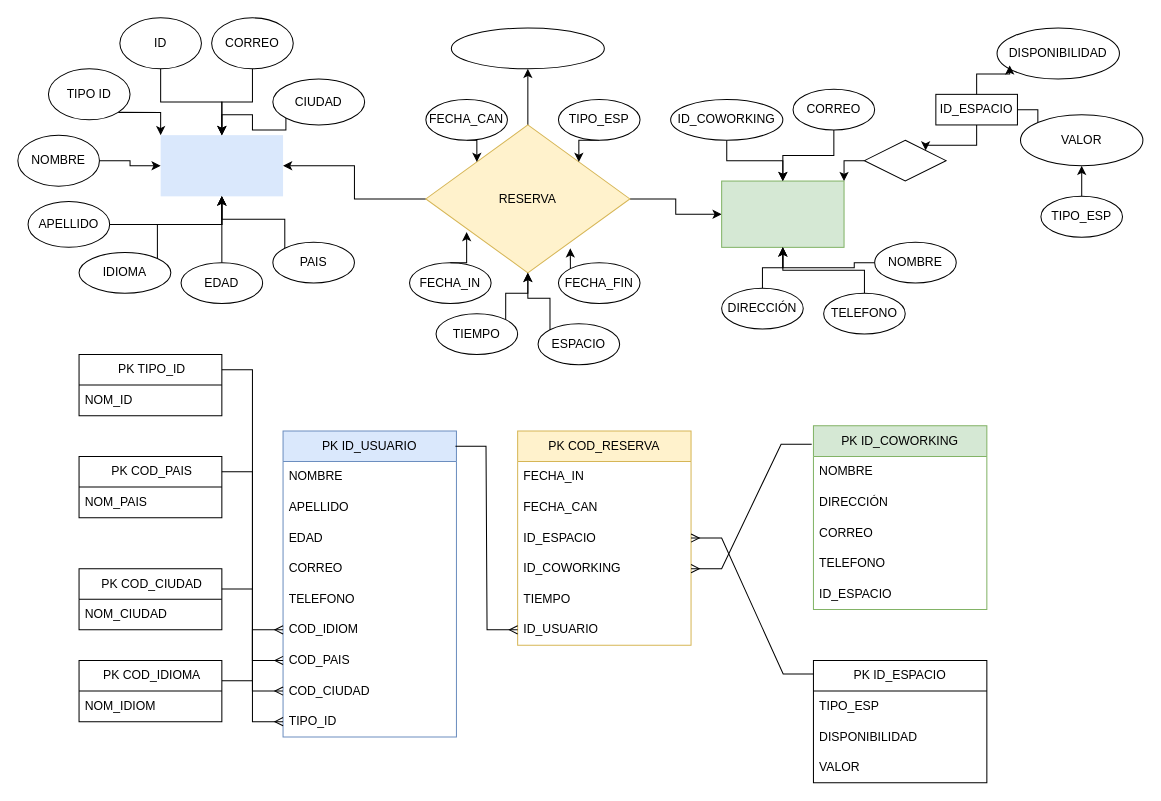
Some shapes in this 1161 by 801 pixel diagram are drawn without their labels. Here are the shapes that lost their labels. From the top down, the centre of each, then its label:
At (x=527, y=48): "CODIGO_RESERVA".
At (x=221, y=165): "USUARIO".
At (x=904, y=160): "TIENE".
At (x=782, y=213): "COWORKING".
